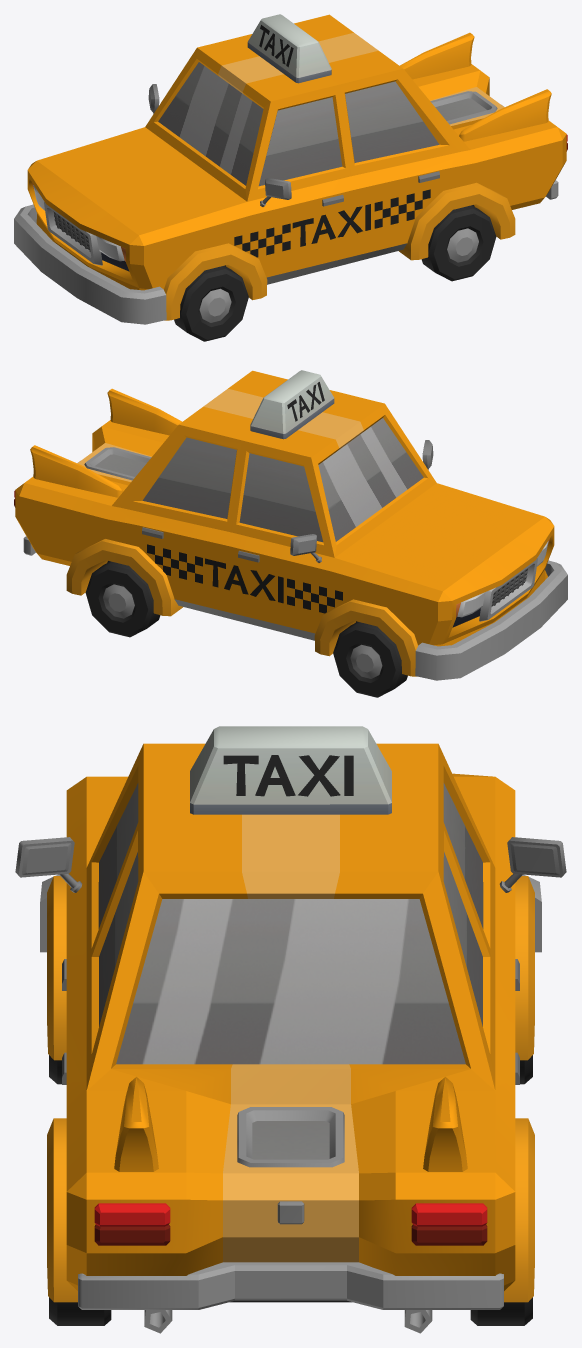
The model's file is Taxi_3.fbx.
3 renders of one model, top to bottom at view 1: azimuth 30°, elevation 25°; view 2: azimuth 150°, elevation 25°; view 3: azimuth 270°, elevation 25°, orthographic. The views are drawn at different scales.
Visible parts, largest first — view 1: Taxi_3, FL, RL; view 2: Taxi_3, FR, RR; view 3: Taxi_3, RL, RR.
Part boxes in pixels (x1,y1,x2,y2): Taxi_3: [14, 14, 567, 324]; FL: [174, 266, 248, 341]; RL: [421, 205, 496, 281]; Taxi_3: [14, 370, 567, 680]; FR: [333, 622, 407, 697]; RR: [85, 561, 160, 637]; Taxi_3: [15, 726, 566, 1333]; RL: [49, 1297, 111, 1325]; RR: [470, 1297, 532, 1325].
Size of the model in its own units: 3.58 by 1.74 by 1.85.
